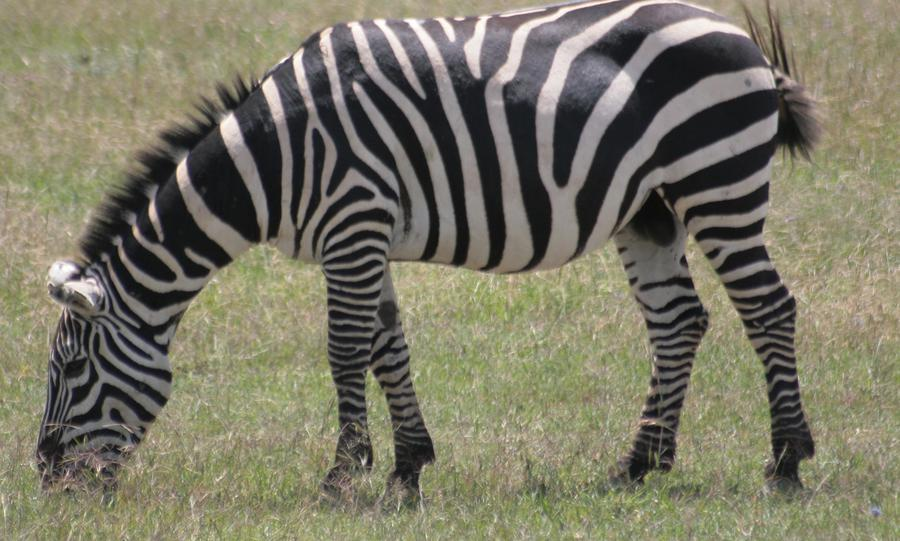zebra_plains: (263, 19, 784, 246)
